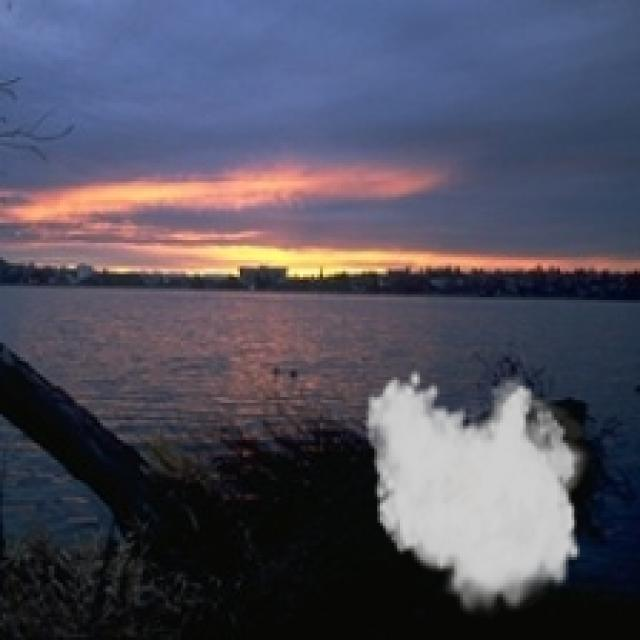Smoke: (363, 368, 594, 620)
